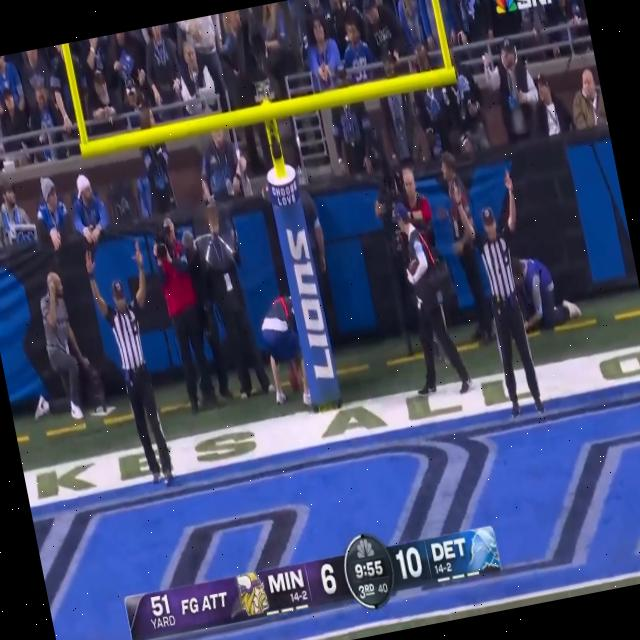Referee: (82, 246, 200, 495), (462, 188, 564, 422)
